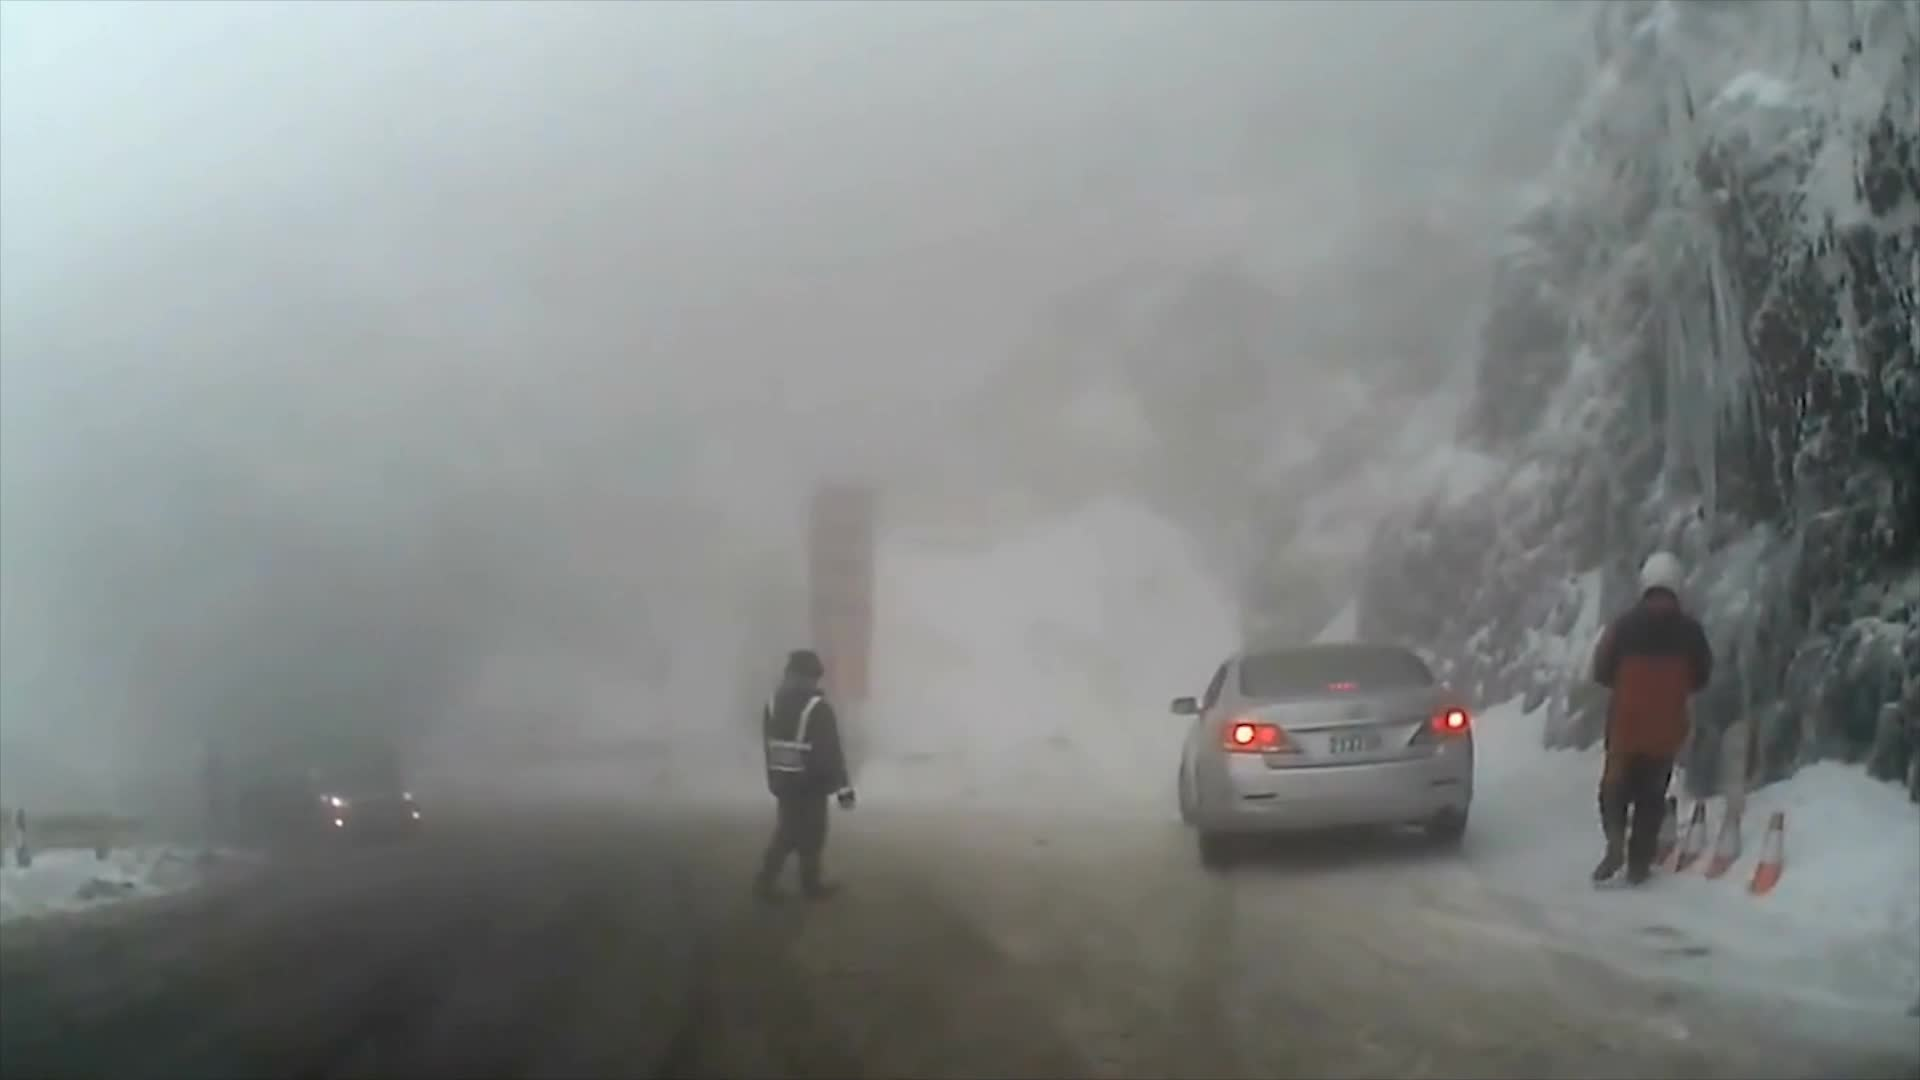pedestrian: (1591, 546, 1715, 888), (760, 647, 868, 899)
vehicle: (1168, 635, 1475, 866)
